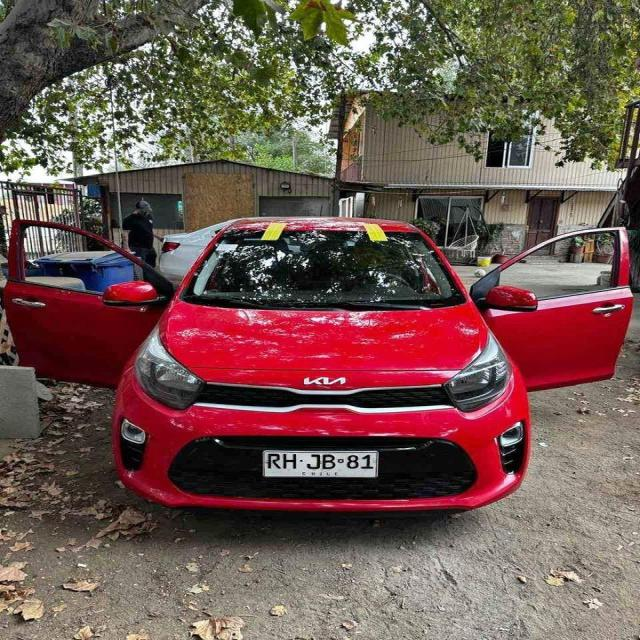patente: (260, 449, 378, 478)
